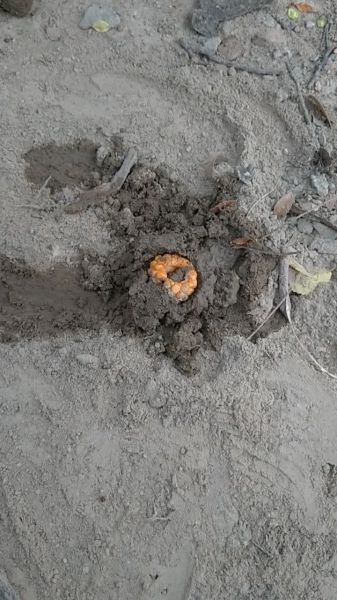eggs: (138, 246, 208, 307)
